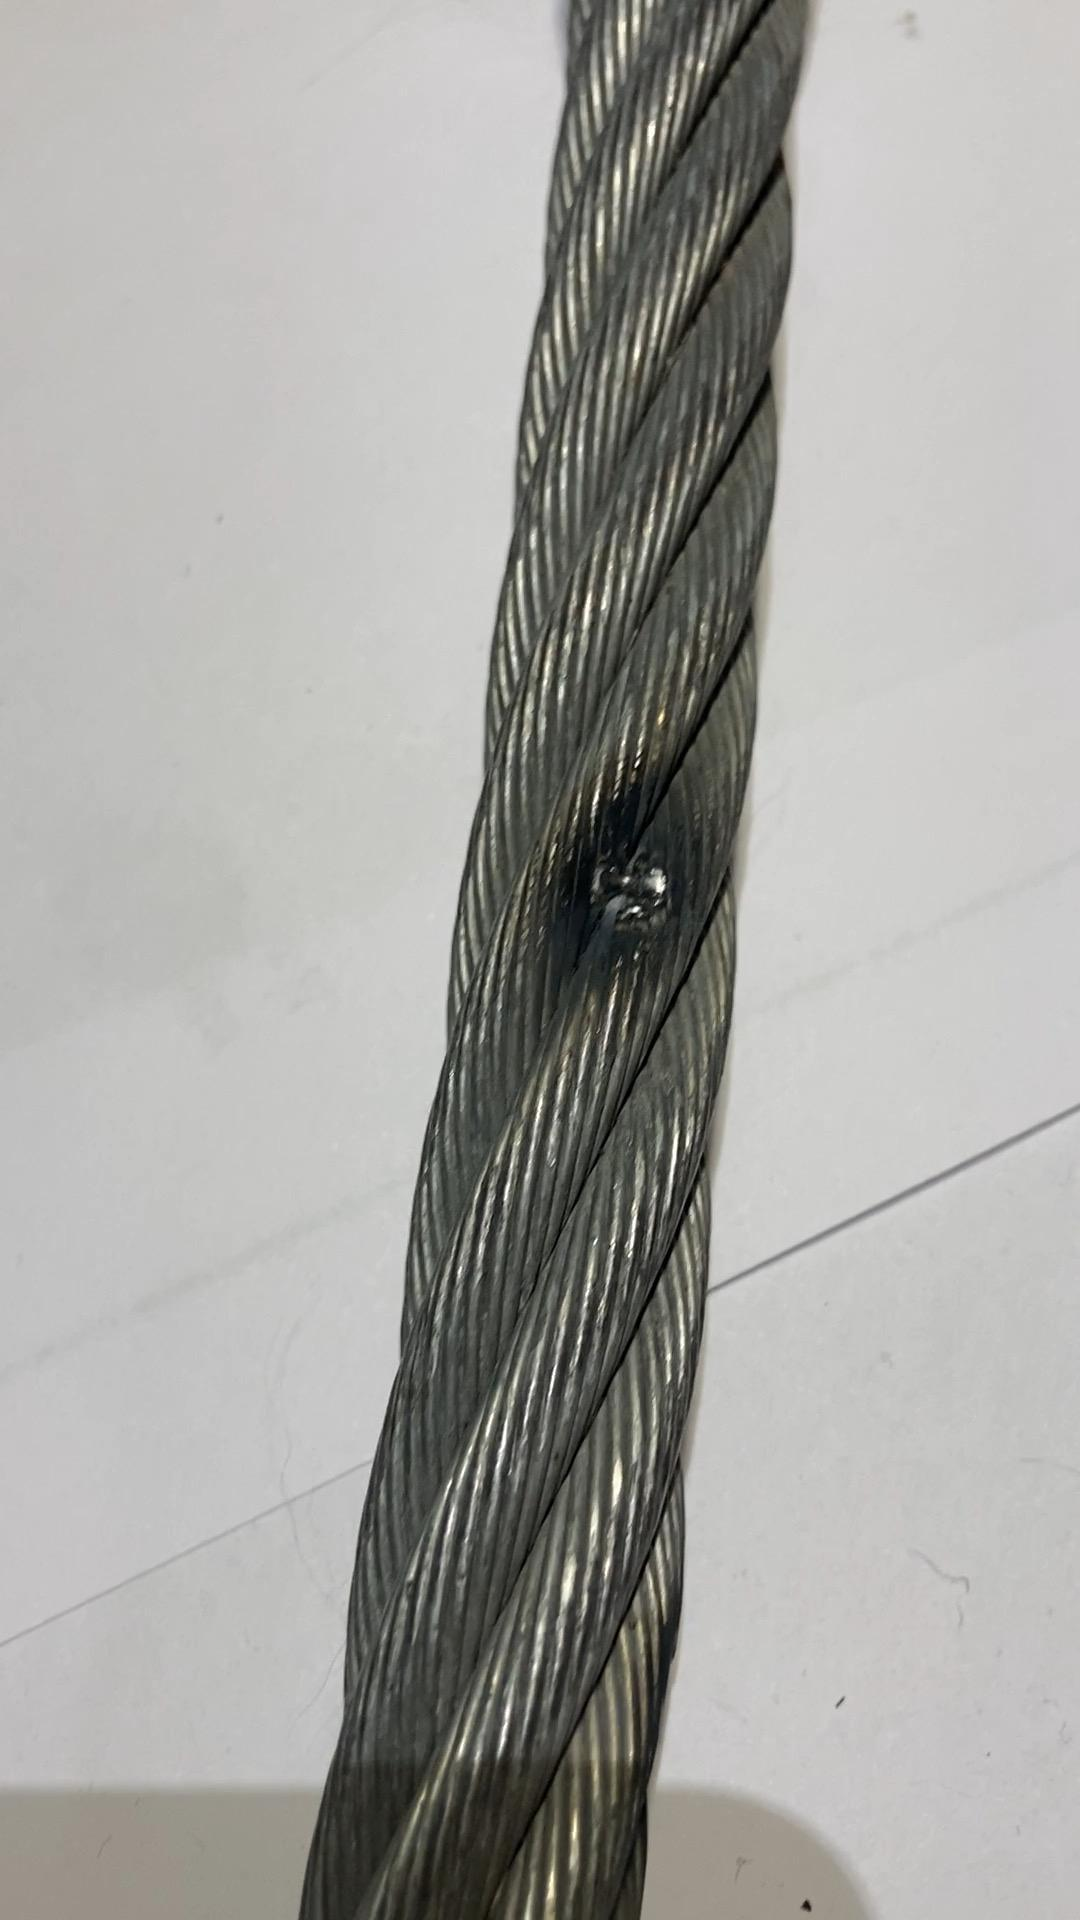thunderbolt: (537, 795, 716, 975)
